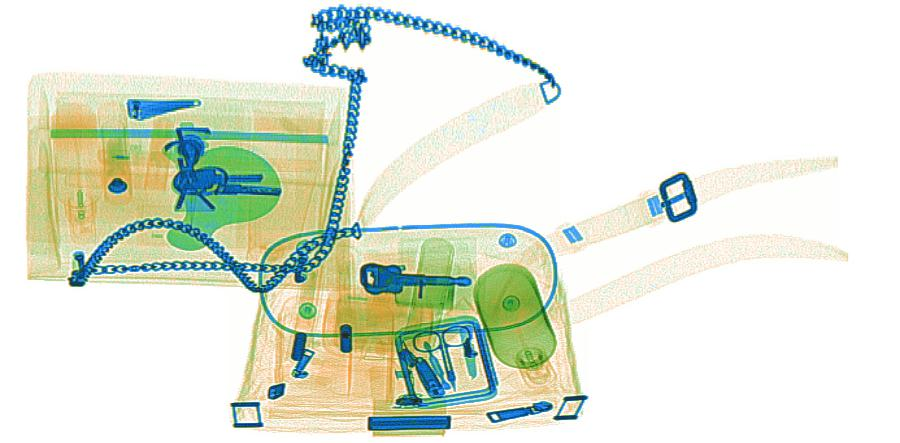plasticBottleWithaNozzle: (51, 101, 106, 245)
scissors: (412, 325, 472, 392)
